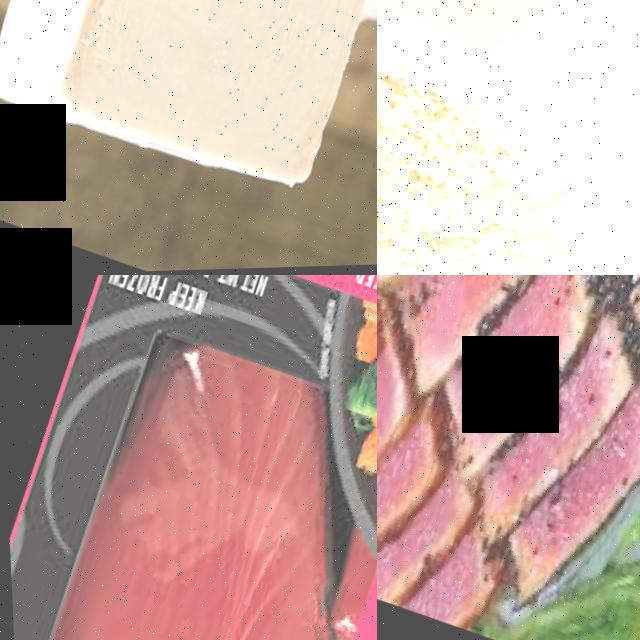tofu: (0, 0, 377, 218)
tuna: (14, 332, 360, 640)
white rice: (377, 0, 596, 275)
